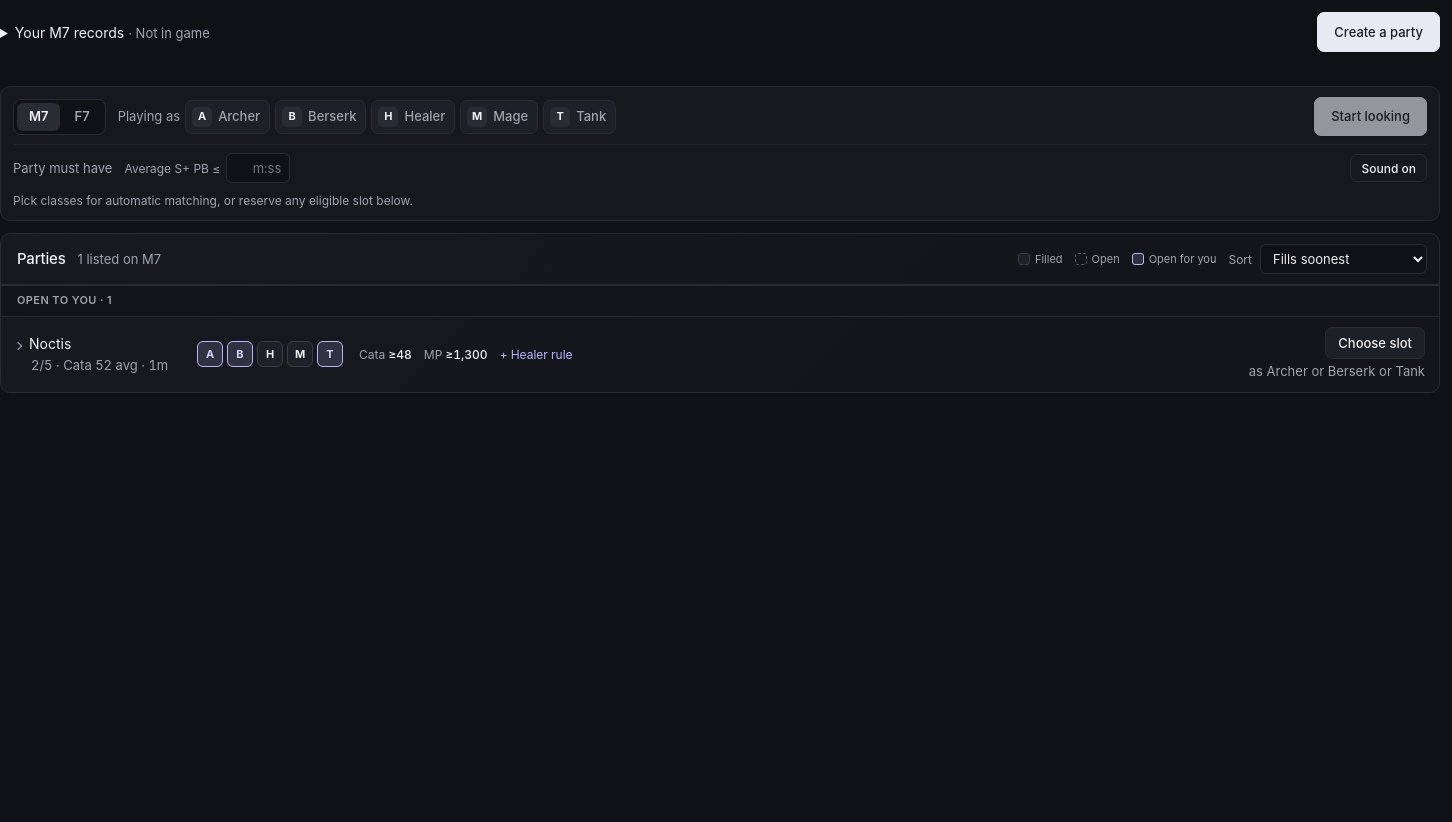
Test case: reserves any eligible class with Mage selected for matching
Expected: the button "Choose slot" is shown, x1=1325 y1=327 x2=1425 y2=359
Click the button "M Mage": coordinates (499, 117) x1=460 y1=100 x2=538 y2=134
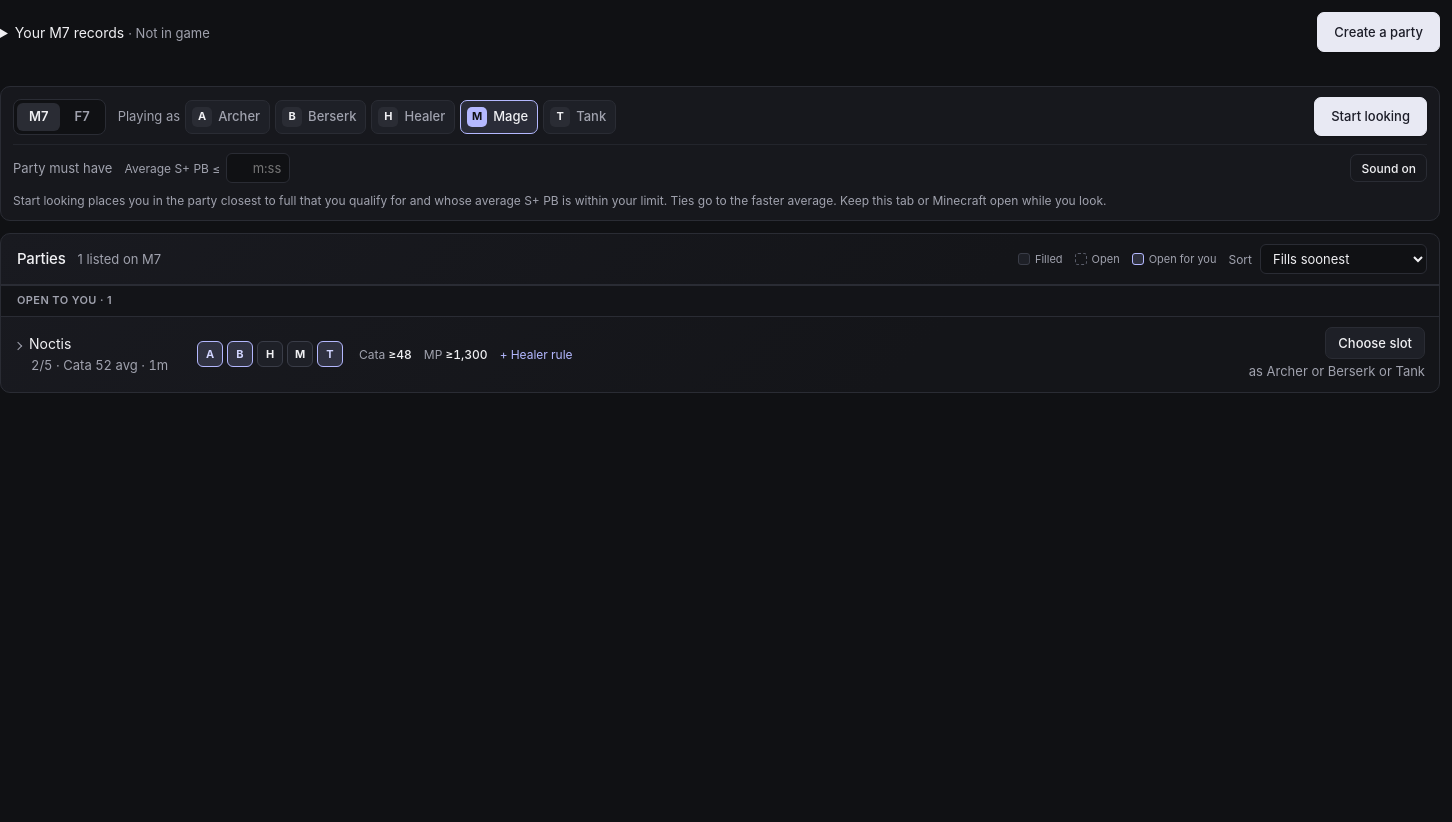
Click the button "Choose slot": coordinates (1375, 343) x1=1325 y1=327 x2=1425 y2=359
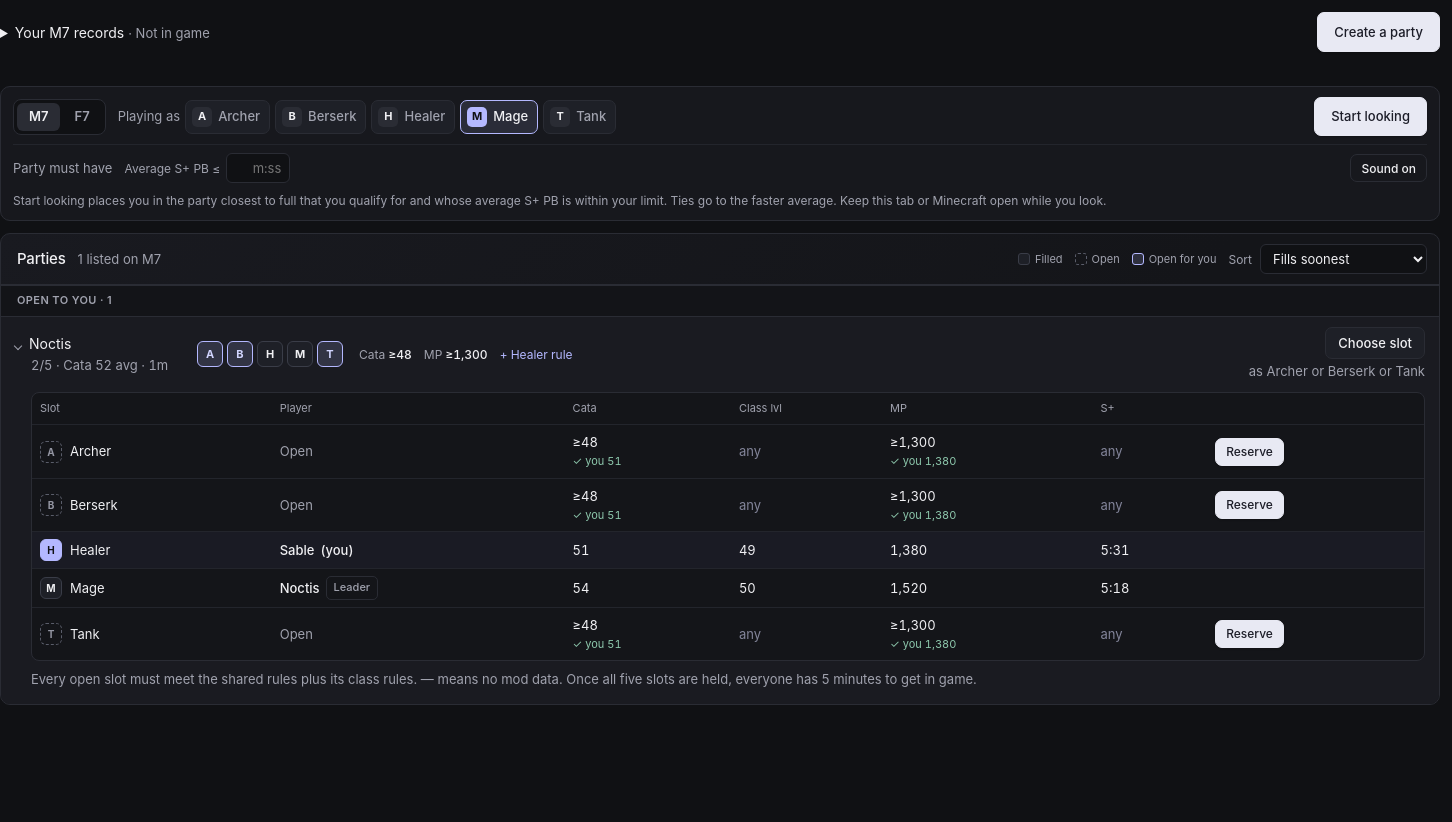
Expected: the heading "Open to you · 1" is shown, x1=1 y1=285 x2=1439 y2=316
Click the button with aria-label "Reserve Tank in Noctis’s party": coordinates (1249, 634) x1=1215 y1=620 x2=1284 y2=648
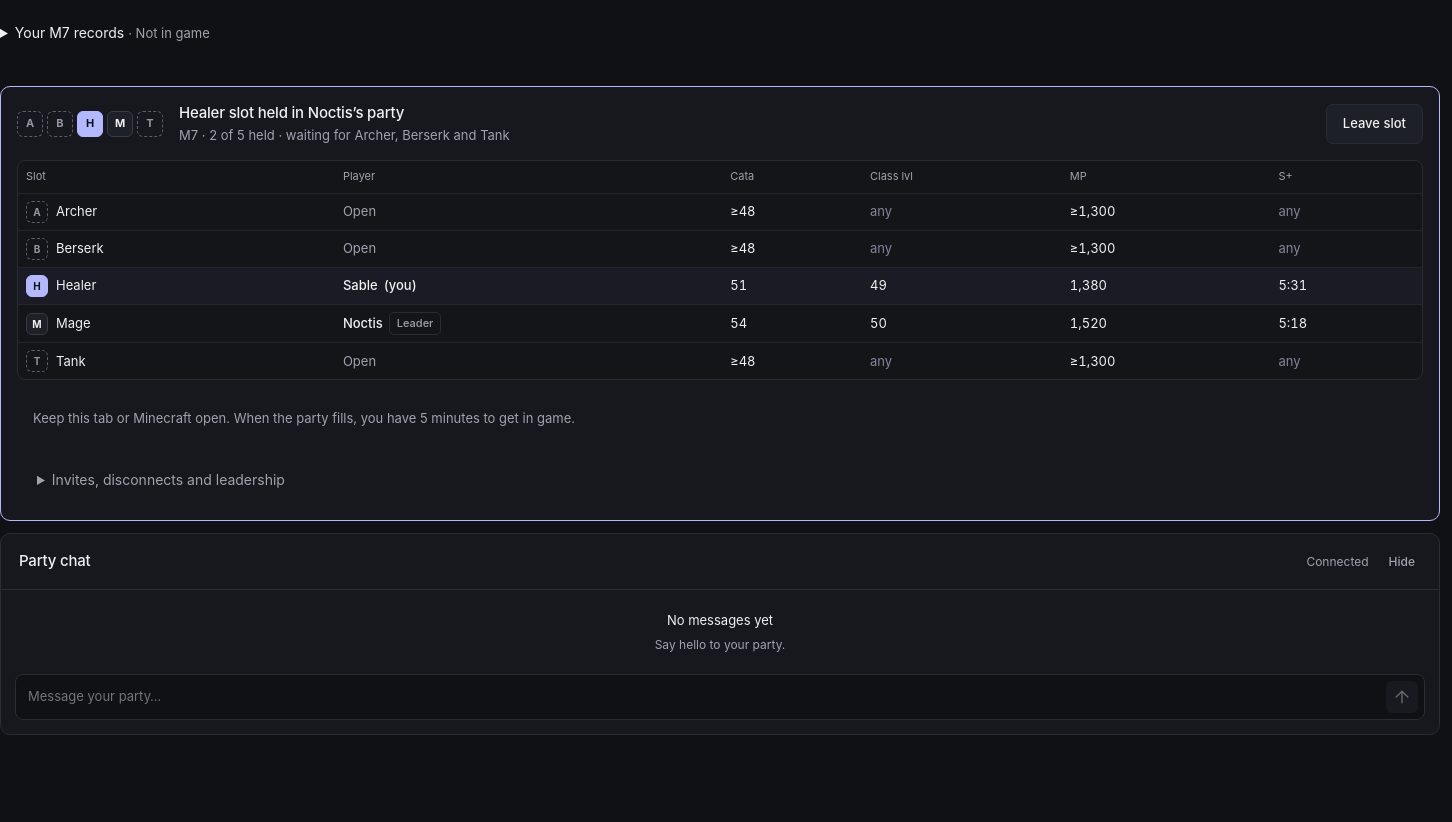
Expected: the heading "Healer slot held in Noctis’s party" is shown, x1=179 y1=103 x2=404 y2=122
